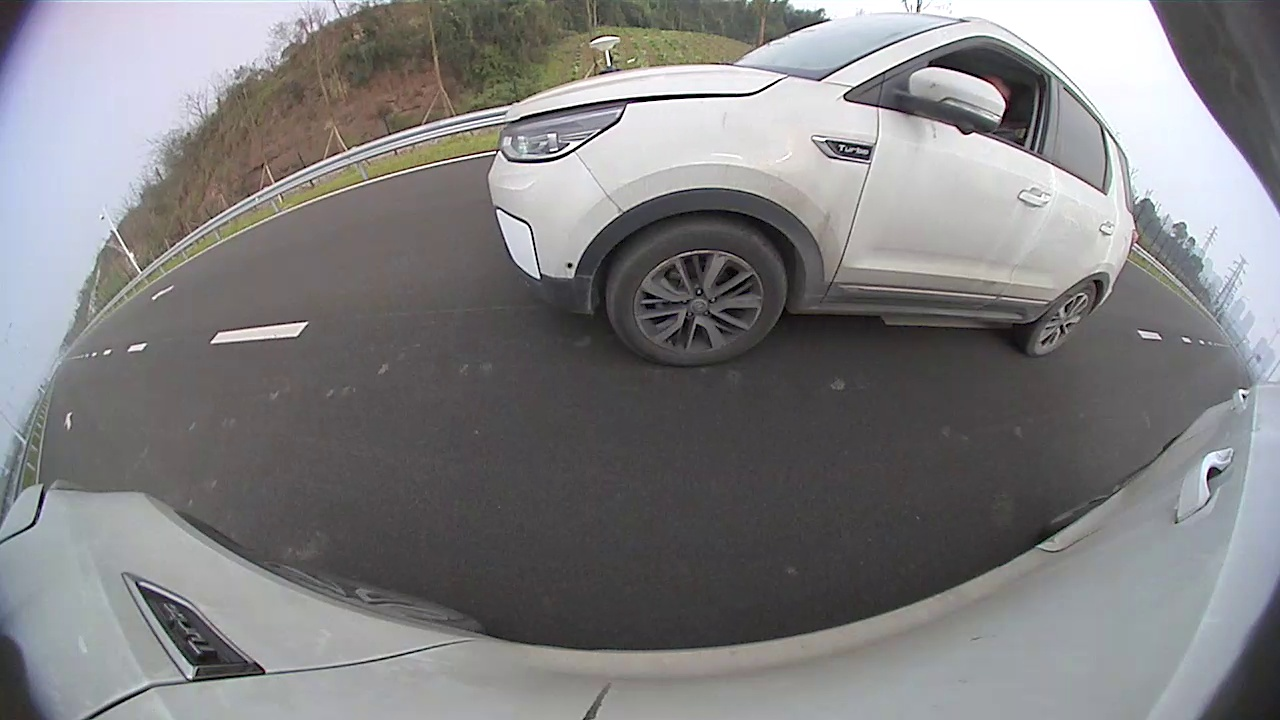car: (486, 13, 1141, 365)
front: (608, 225, 788, 367)
rear: (1027, 282, 1096, 357)
